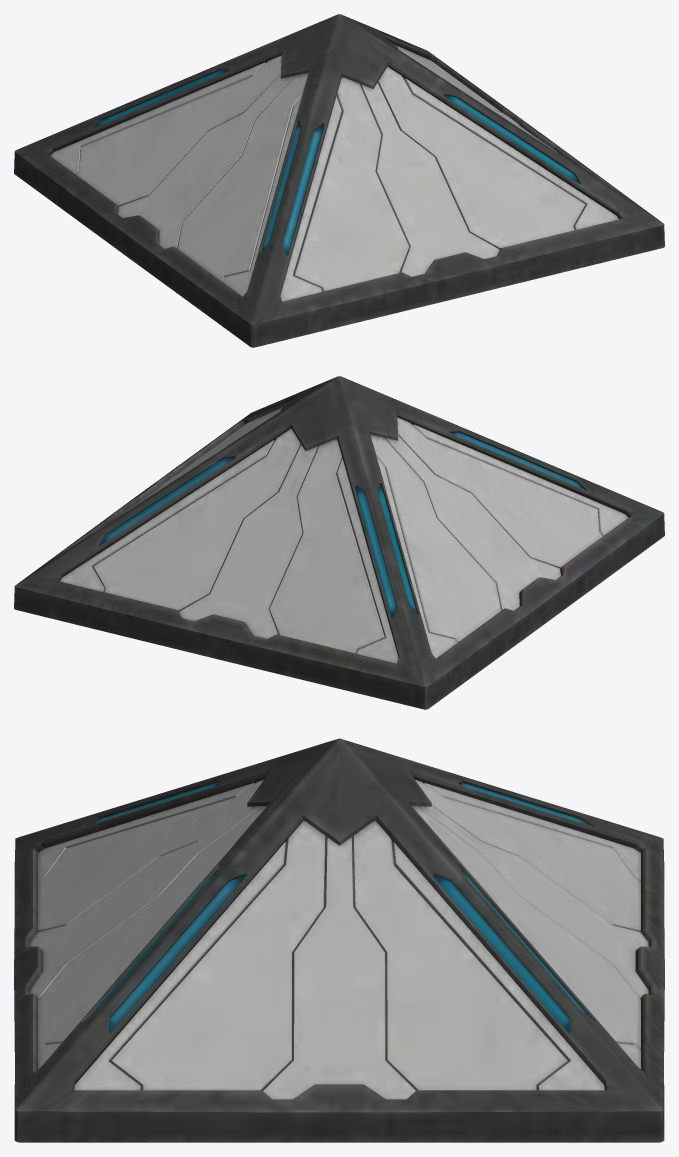
File: SM_PyramidRoof_Ancient_185398.glb
3 renders of one model, top to bottom at view 1: azimuth 30°, elevation 25°; view 2: azimuth 150°, elevation 25°; view 3: azimuth 270°, elevation 25°, orthographic. The views are drawn at different scales.
Size of the model in its own units: 4.04 by 1.83 by 4.04.
Materials: 1 (1 with a texture image).
